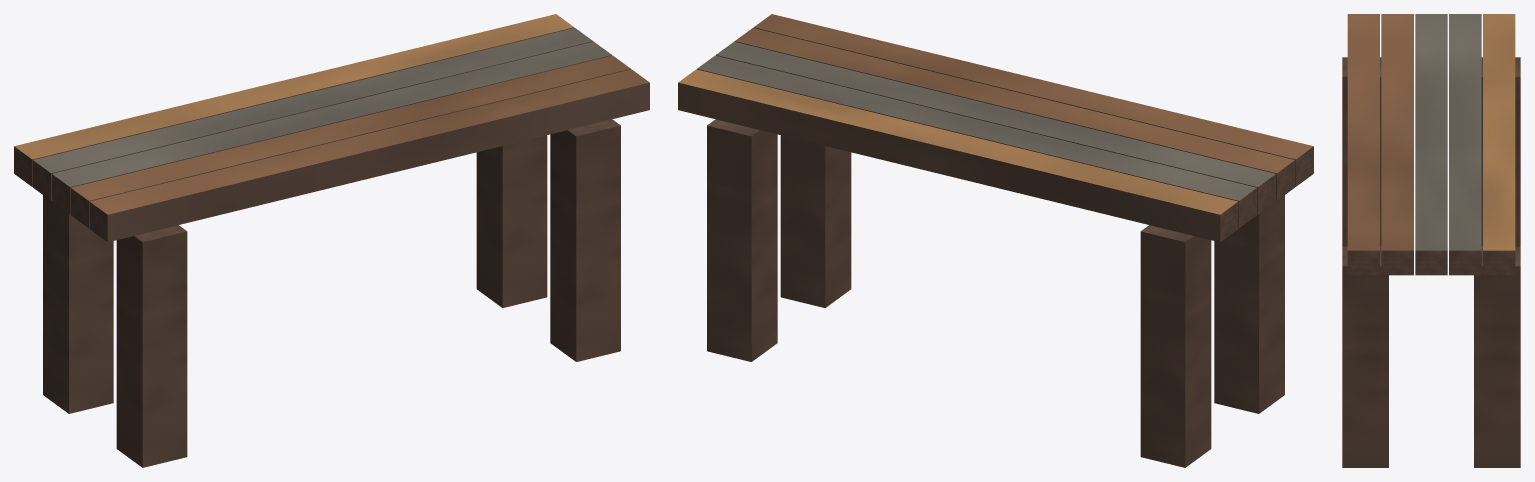
The model's file is bench_wood.fbx.
3 renders of one model, left to right at view 1: azimuth 30°, elevation 25°; view 2: azimuth 150°, elevation 25°; view 3: azimuth 270°, elevation 25°, orthographic. The views are drawn at different scales.
Visible parts, largest first — view 1: bench_wood; view 2: bench_wood; view 3: bench_wood.
Part boxes in pixels (x1,y1,x2,y2): bench_wood: (14, 14, 649, 467); bench_wood: (678, 14, 1313, 467); bench_wood: (1342, 14, 1520, 467).
Size of the model in its own units: 182 by 83 by 58.
1 material, 1 textured.
